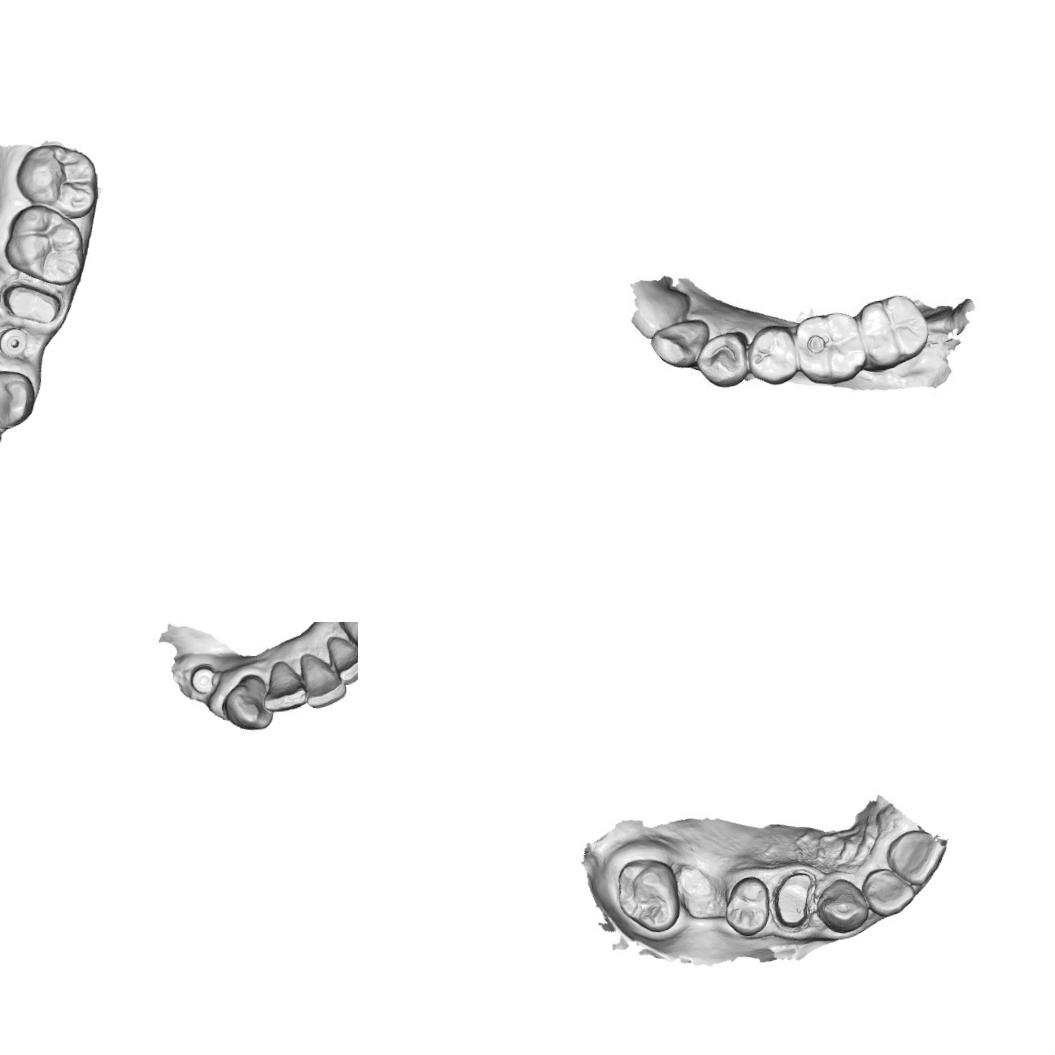canine: (812, 872, 871, 936), (646, 317, 714, 370), (218, 673, 274, 735), (0, 366, 38, 431)
crown: (0, 274, 66, 330), (766, 867, 821, 933)
implant: (0, 324, 31, 359)
incisor: (882, 826, 949, 890), (860, 864, 917, 919), (298, 651, 350, 710), (260, 660, 308, 712), (325, 631, 358, 686), (340, 622, 358, 652)
molar: (0, 200, 88, 290), (11, 138, 102, 224), (614, 855, 684, 936), (794, 311, 869, 383), (855, 293, 927, 365)
premolar: (694, 326, 754, 390), (745, 323, 802, 387), (721, 873, 772, 938)
